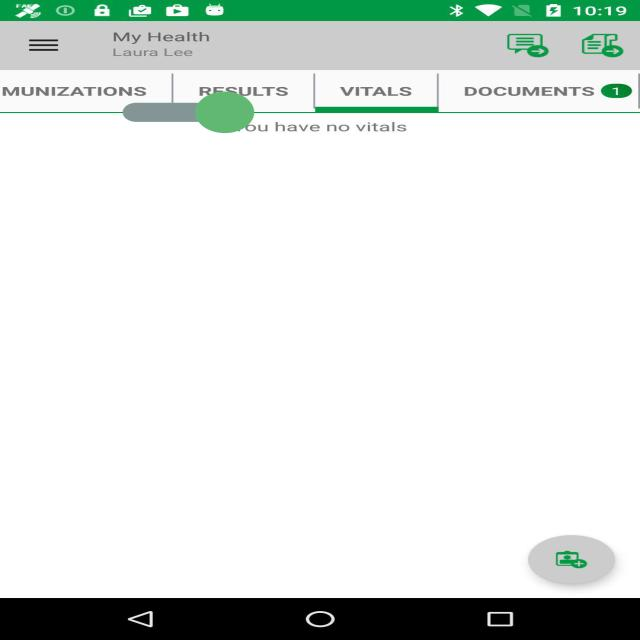social proof: (123, 66, 254, 159)
